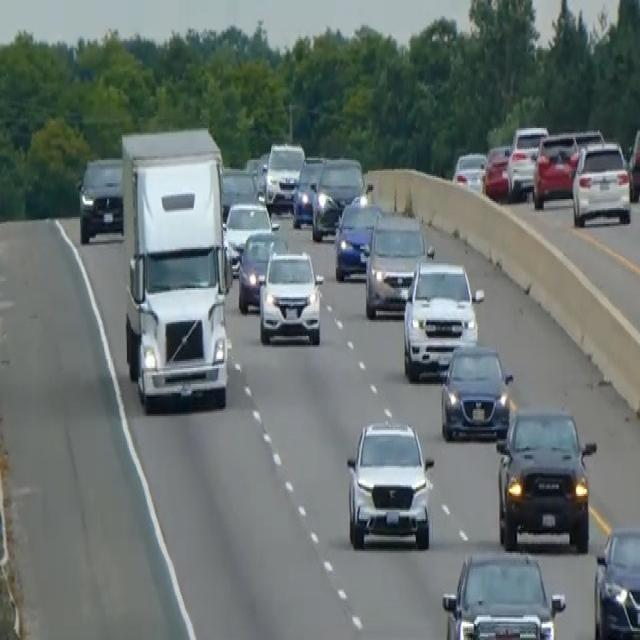car: (494, 404, 596, 551), (344, 418, 434, 551), (441, 548, 565, 638), (401, 258, 483, 380), (362, 210, 433, 318), (439, 339, 513, 441), (258, 247, 324, 345), (571, 138, 631, 228), (593, 523, 639, 638), (311, 155, 366, 240), (333, 194, 384, 281), (236, 226, 287, 313), (78, 154, 123, 243), (223, 197, 272, 272), (532, 130, 579, 208), (506, 123, 548, 199), (264, 139, 304, 208), (291, 153, 325, 227), (220, 164, 258, 218), (482, 142, 511, 199), (451, 149, 487, 194), (627, 124, 639, 201)
lorry: (119, 124, 232, 410)
